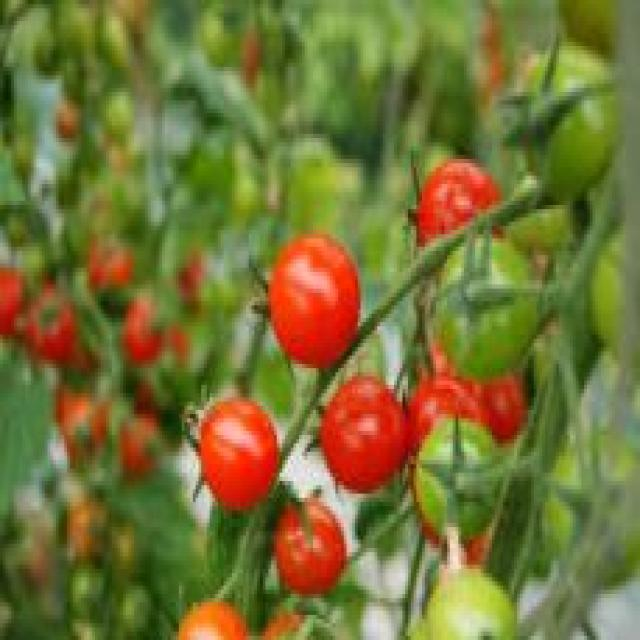level 1: (419, 226, 546, 377), (64, 560, 119, 617), (117, 571, 161, 637), (69, 607, 114, 640), (0, 577, 8, 639)
level 2: (508, 34, 622, 200), (402, 423, 531, 552), (388, 573, 536, 640), (589, 220, 640, 380)
level 3: (100, 518, 156, 570)
level 4: (62, 489, 115, 562), (7, 534, 60, 605)
level 5: (174, 597, 252, 640)
level 6: (262, 220, 373, 373), (285, 362, 409, 494), (178, 374, 284, 522), (422, 320, 534, 452), (395, 148, 512, 264), (376, 371, 493, 474), (272, 484, 366, 599), (402, 488, 500, 570), (108, 390, 170, 501), (77, 237, 150, 309), (55, 388, 112, 461), (115, 292, 164, 374), (22, 294, 79, 364), (257, 608, 354, 640), (0, 230, 25, 343), (175, 239, 211, 314), (150, 318, 193, 367)
